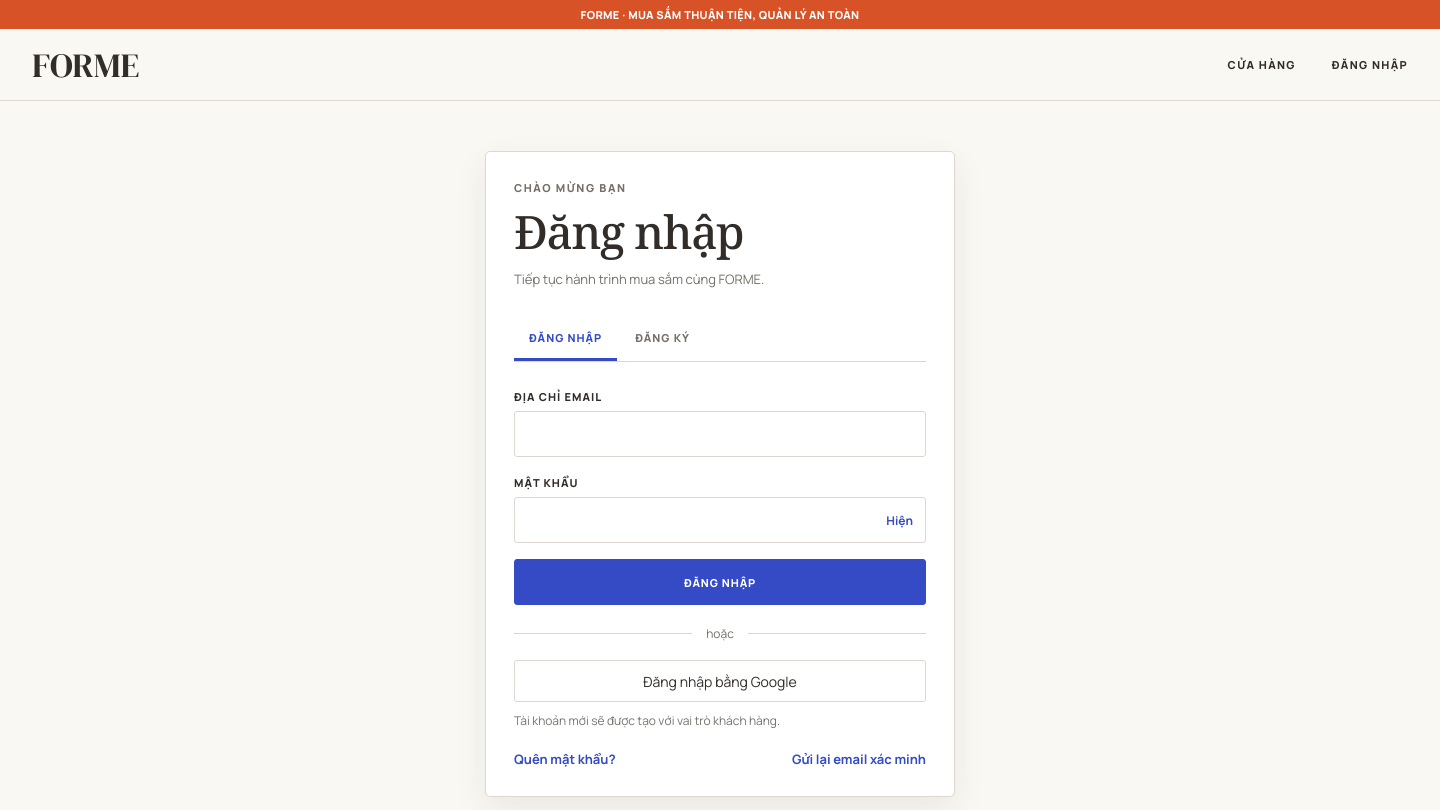
Test: App › sends internal staff to the internal workspace after login
Type "support@example.com" into the field labelled "ĐỊA CHỈ EMAIL". click: (720, 434)
box: [514, 411, 926, 457]
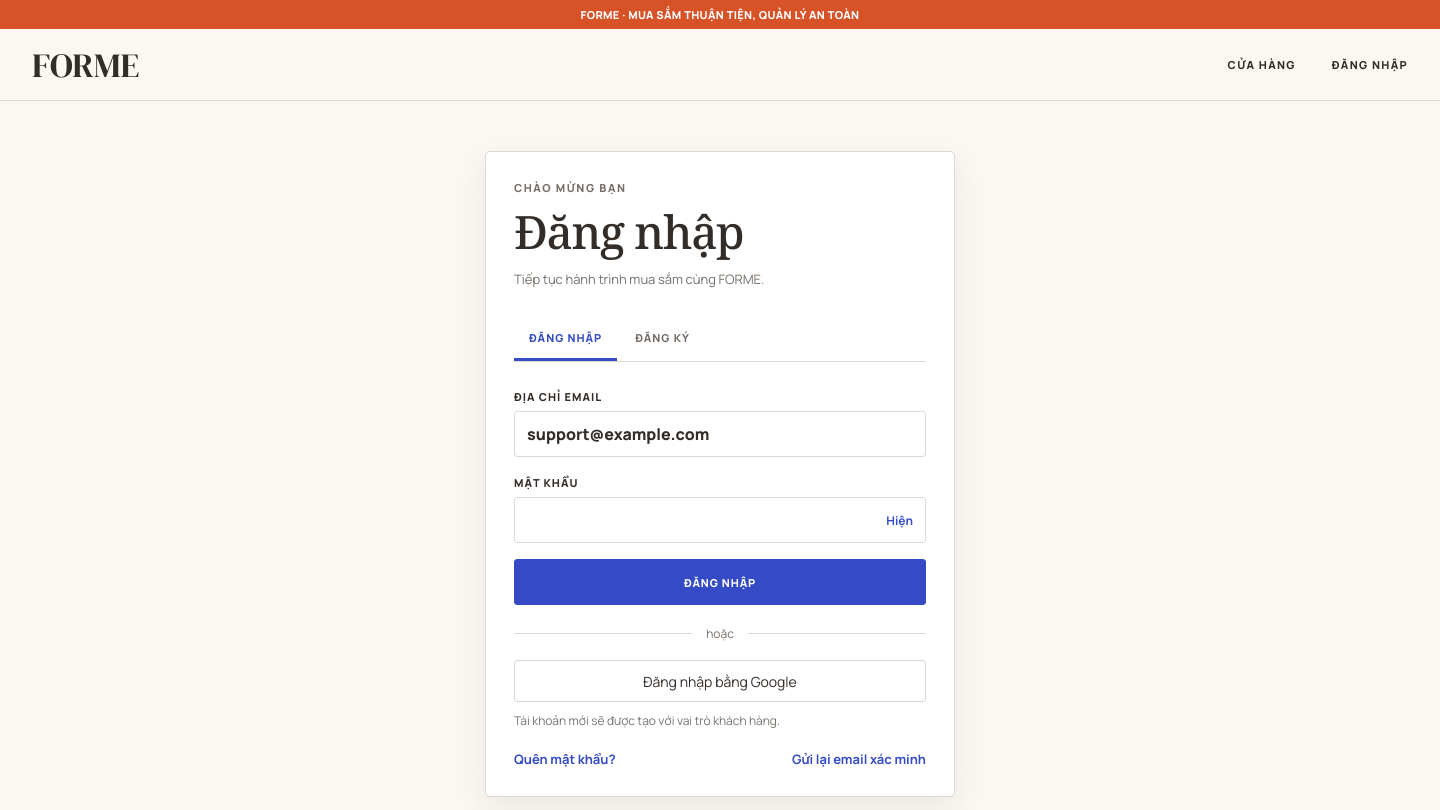
Type "Password123" into the password field labelled "MẬT KHẨU". click: (720, 520)
box: [514, 497, 926, 543]
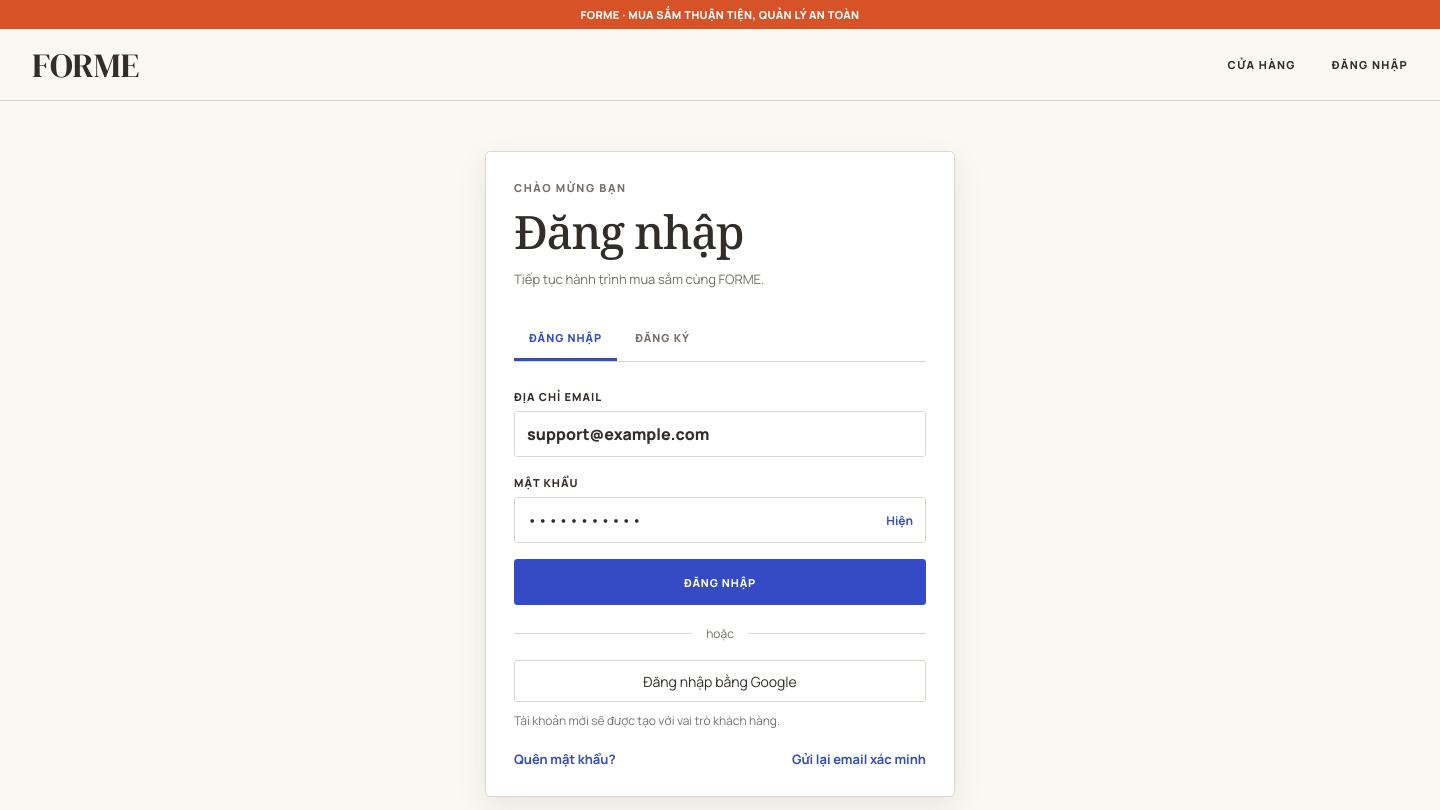
Click the button "ĐĂNG NHẬP". click: (720, 582)
box: [514, 559, 926, 605]
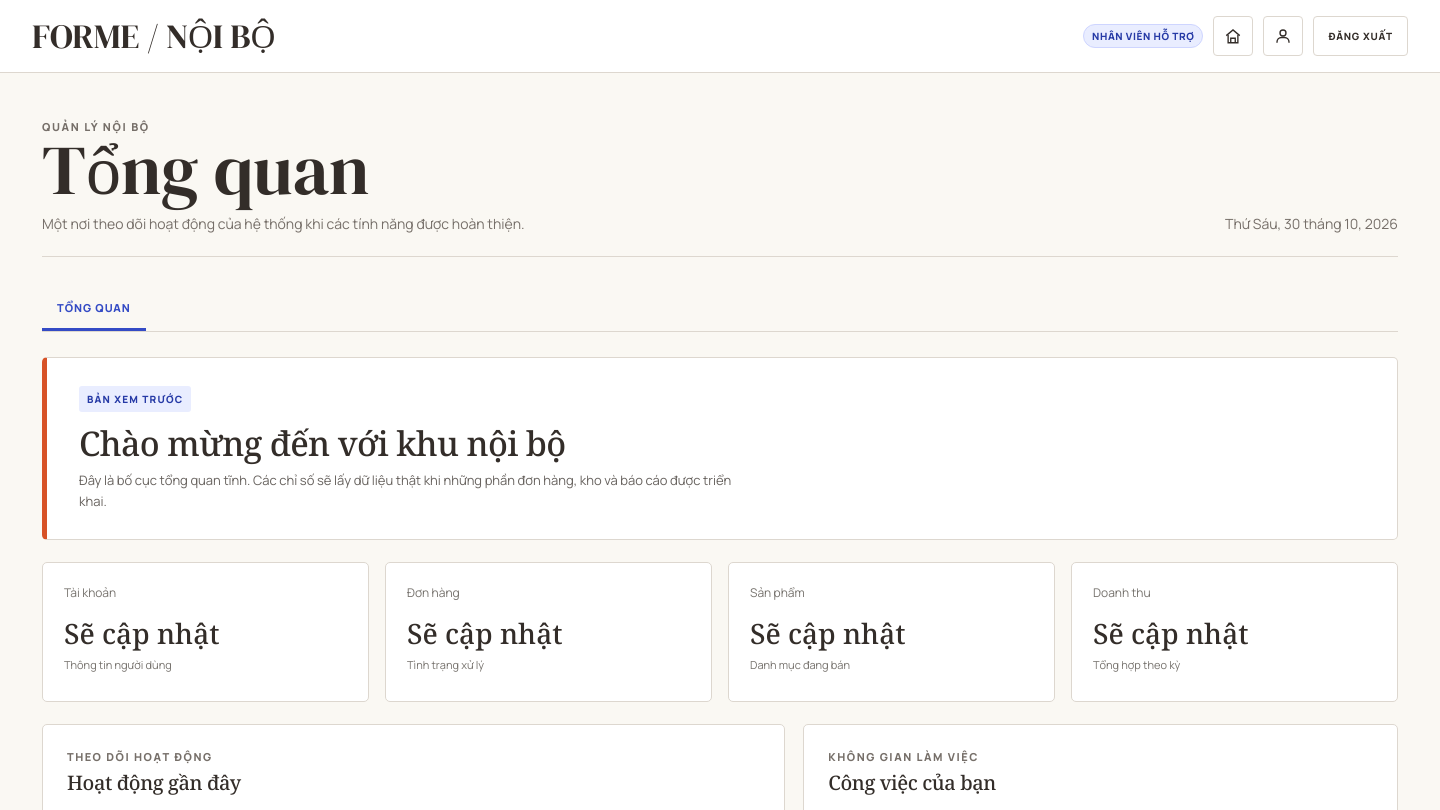
Check: the heading "Tổng quan" is shown, box [42, 121, 369, 217]
